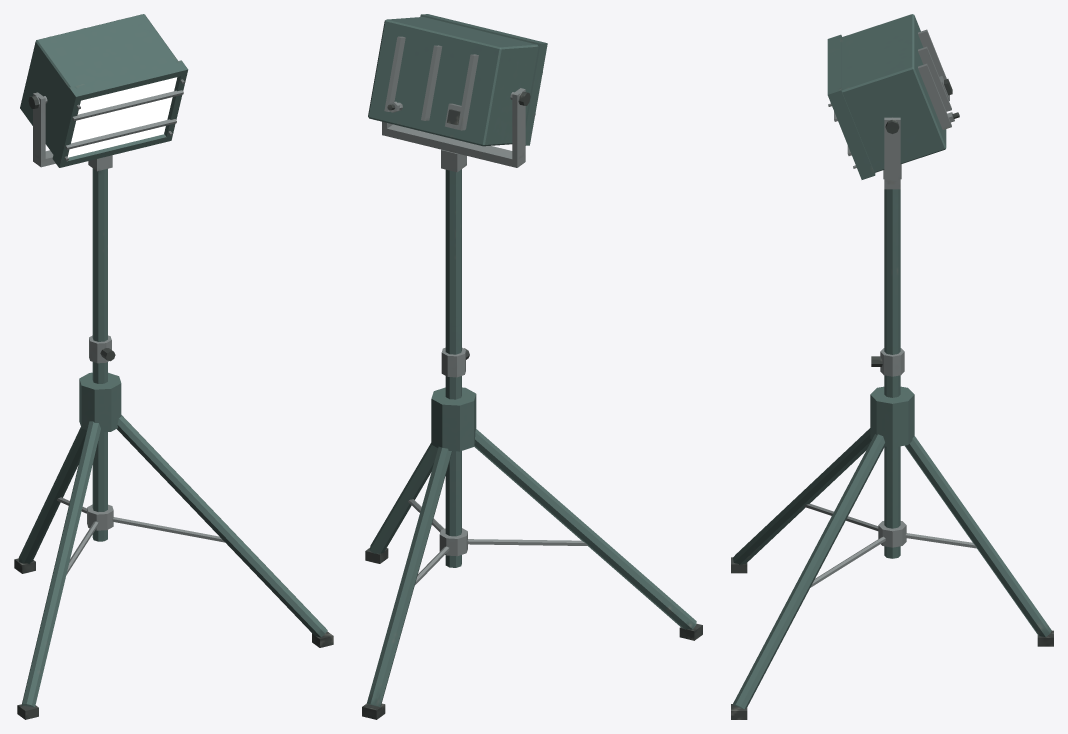
File: industry_work_light_tripod.glb
The picture shows the model from 3 angles, left to right: view 1: azimuth 30°, elevation 25°; view 2: azimuth 150°, elevation 25°; view 3: azimuth 270°, elevation 25°; orthographic projection. The views are drawn at different scales.
Parts seen in each view (by area): view 1: WorkLight; view 2: WorkLight; view 3: WorkLight.
Part boxes in pixels (left/top/right/bottom): WorkLight: left=14, top=14, right=333, bottom=719; WorkLight: left=362, top=14, right=702, bottom=719; WorkLight: left=731, top=14, right=1053, bottom=719.
Bounding box in the file's own units: 0.9 × 1.65 × 0.8.
Materials: 2 (1 with a texture image).
